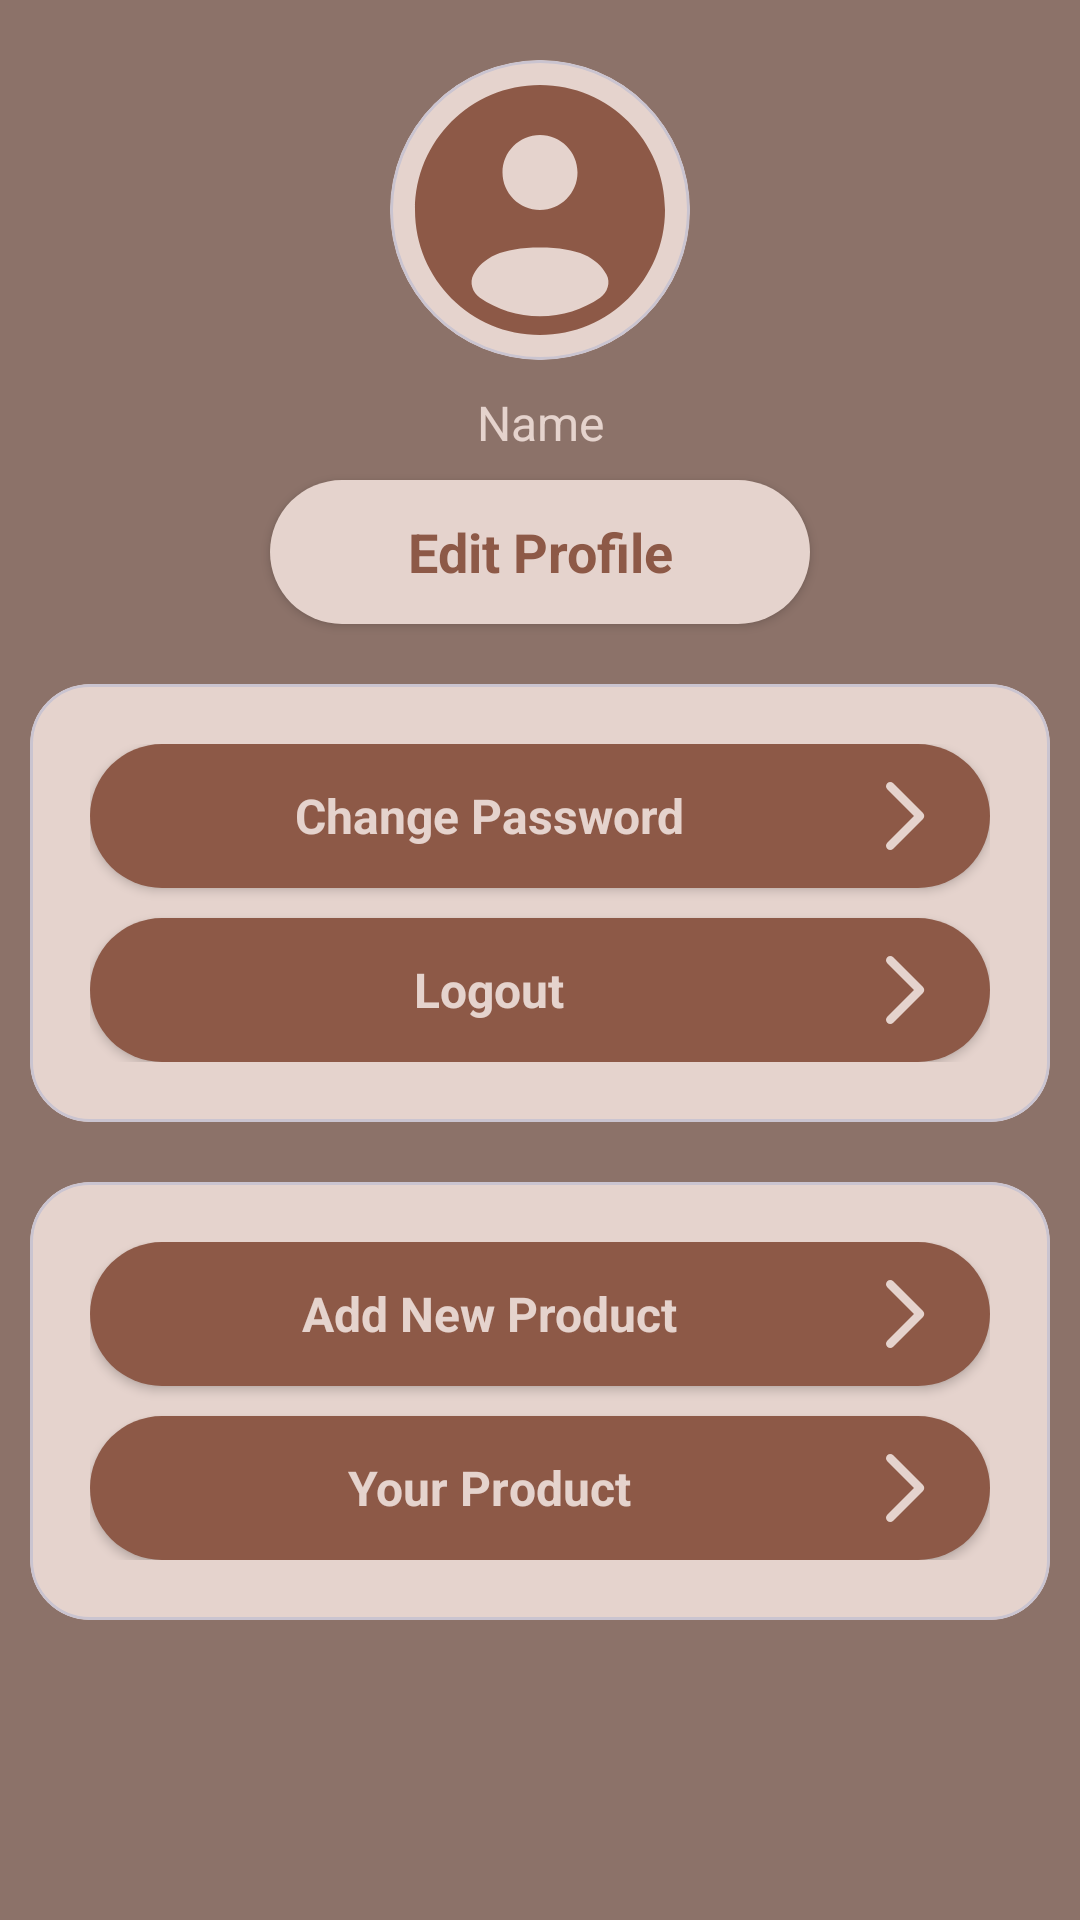

Icon click points for this 1080px×1920px phone screenshot, format point (x, y):
user: point (540, 210)
